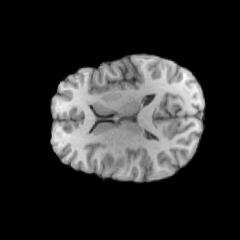glioma: (101, 153, 126, 174)
